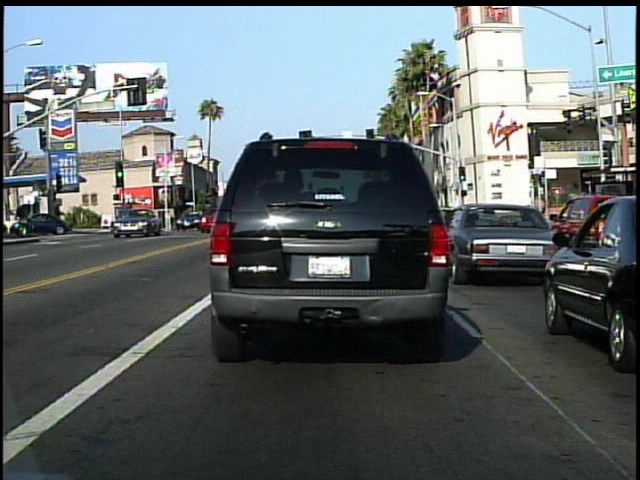person: (12, 200, 35, 238)
